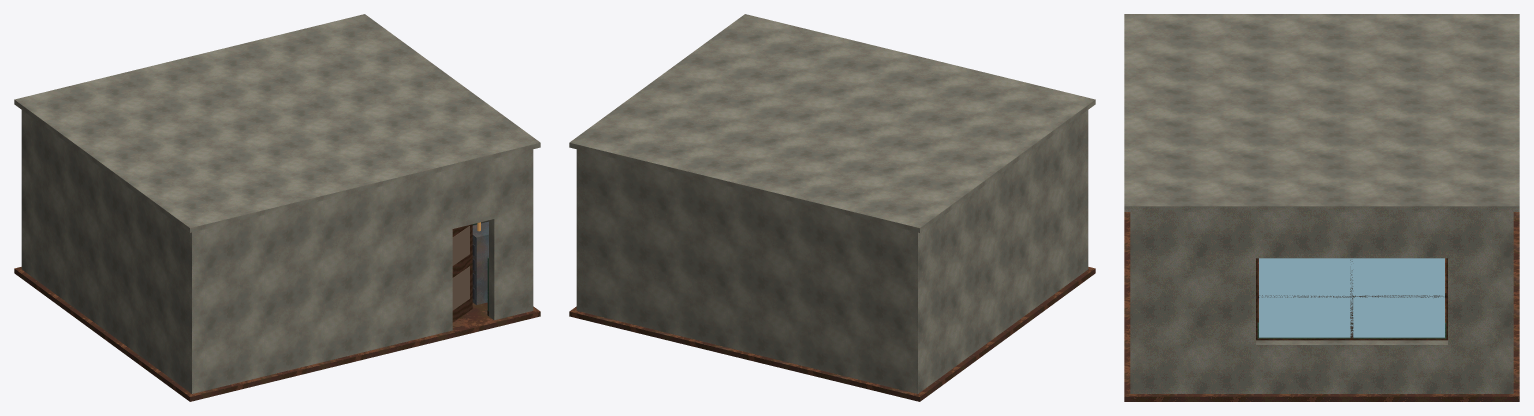
Rendered from ep_sala_controle.glb.
3 views of the same model, side by side, from view 1: azimuth 30°, elevation 25°; view 2: azimuth 150°, elevation 25°; view 3: azimuth 270°, elevation 25° (orthographic). The views are drawn at different scales.
Visible parts, largest first — view 1: plaster-col, linoleum-col, metal-col, flat, wood_dark; view 2: plaster-col, linoleum-col; view 3: plaster-col, flat.002, linoleum-col, wood_dark, paint_green.
Part boxes in pixels (x1=…): plaster-col: x1=14, y1=14, x2=540, y2=393; linoleum-col: x1=14, y1=267, x2=540, y2=401; metal-col: x1=472, y1=221, x2=488, y2=304; flat: x1=452, y1=226, x2=469, y2=310; wood_dark: x1=452, y1=224, x2=488, y2=322; plaster-col: x1=569, y1=14, x2=1095, y2=393; linoleum-col: x1=569, y1=267, x2=1095, y2=401; plaster-col: x1=1124, y1=14, x2=1519, y2=393; flat.002: x1=1259, y1=258, x2=1444, y2=337; linoleum-col: x1=1124, y1=212, x2=1519, y2=401; wood_dark: x1=1256, y1=258, x2=1447, y2=340; paint_green: x1=1257, y1=322, x2=1446, y2=338.
Bounding box in the file's own units: 7.6 × 3.6 × 6.6.
Materials: 48 (10 with a texture image).
